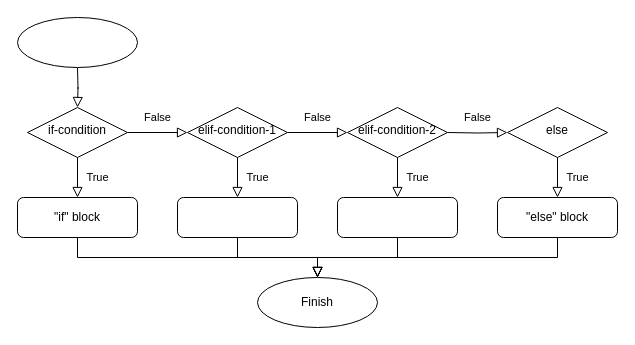
Some shapes in this 635 by 345 pixel diagram are drawn without their labels. The shapes that lost their labels are listed below. From the top down, each one's centre as x and y in pixels, then its label:
the point at 77,42: Start
the point at 237,217: "elif" block1
the point at 397,217: "elif" block2
